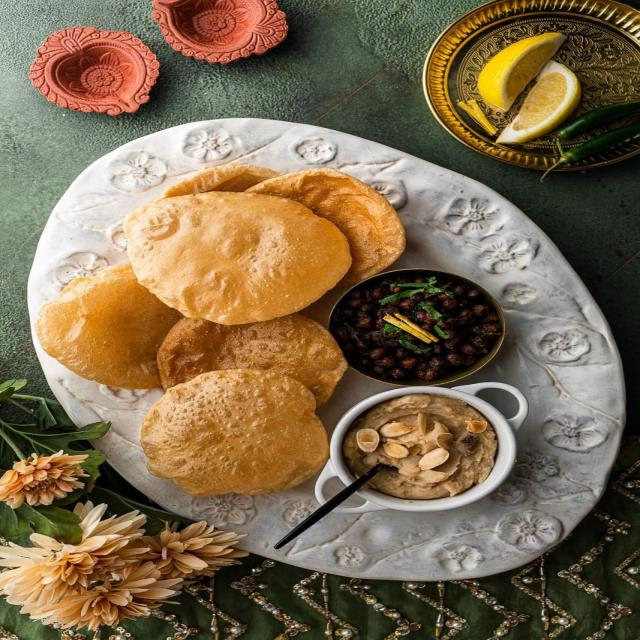poori: (120, 186, 358, 330), (129, 360, 344, 500), (28, 240, 188, 404), (142, 313, 360, 412), (262, 166, 409, 288)
